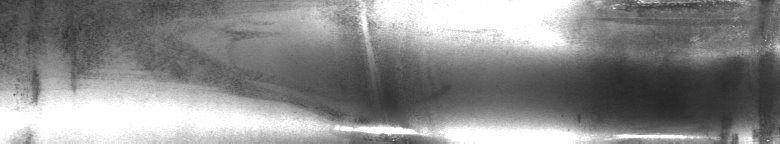ke: (4, 6, 426, 136)
